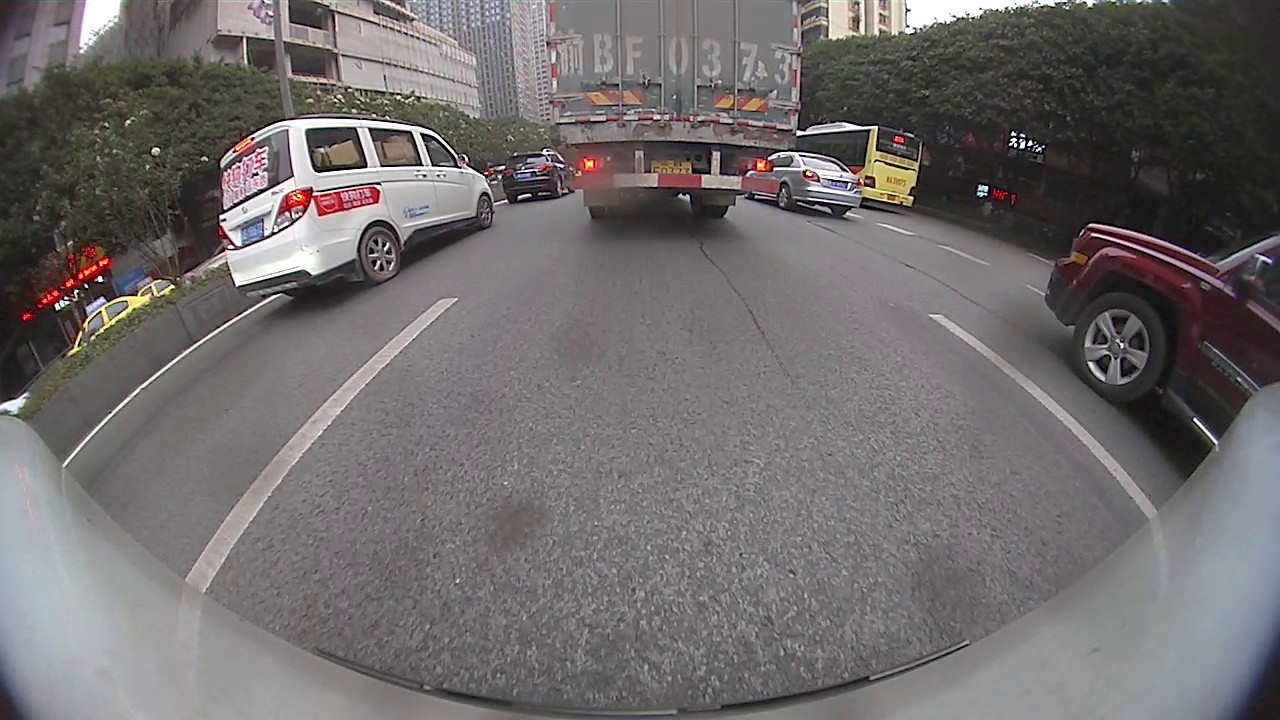bus: (792, 119, 922, 209)
car: (1043, 221, 1279, 443), (217, 113, 496, 299), (742, 153, 862, 217), (68, 292, 154, 357), (499, 147, 576, 203)
front: (1070, 291, 1169, 405), (473, 193, 494, 233)
rear: (358, 225, 405, 283), (776, 181, 793, 211)
truck: (542, 0, 801, 216)
